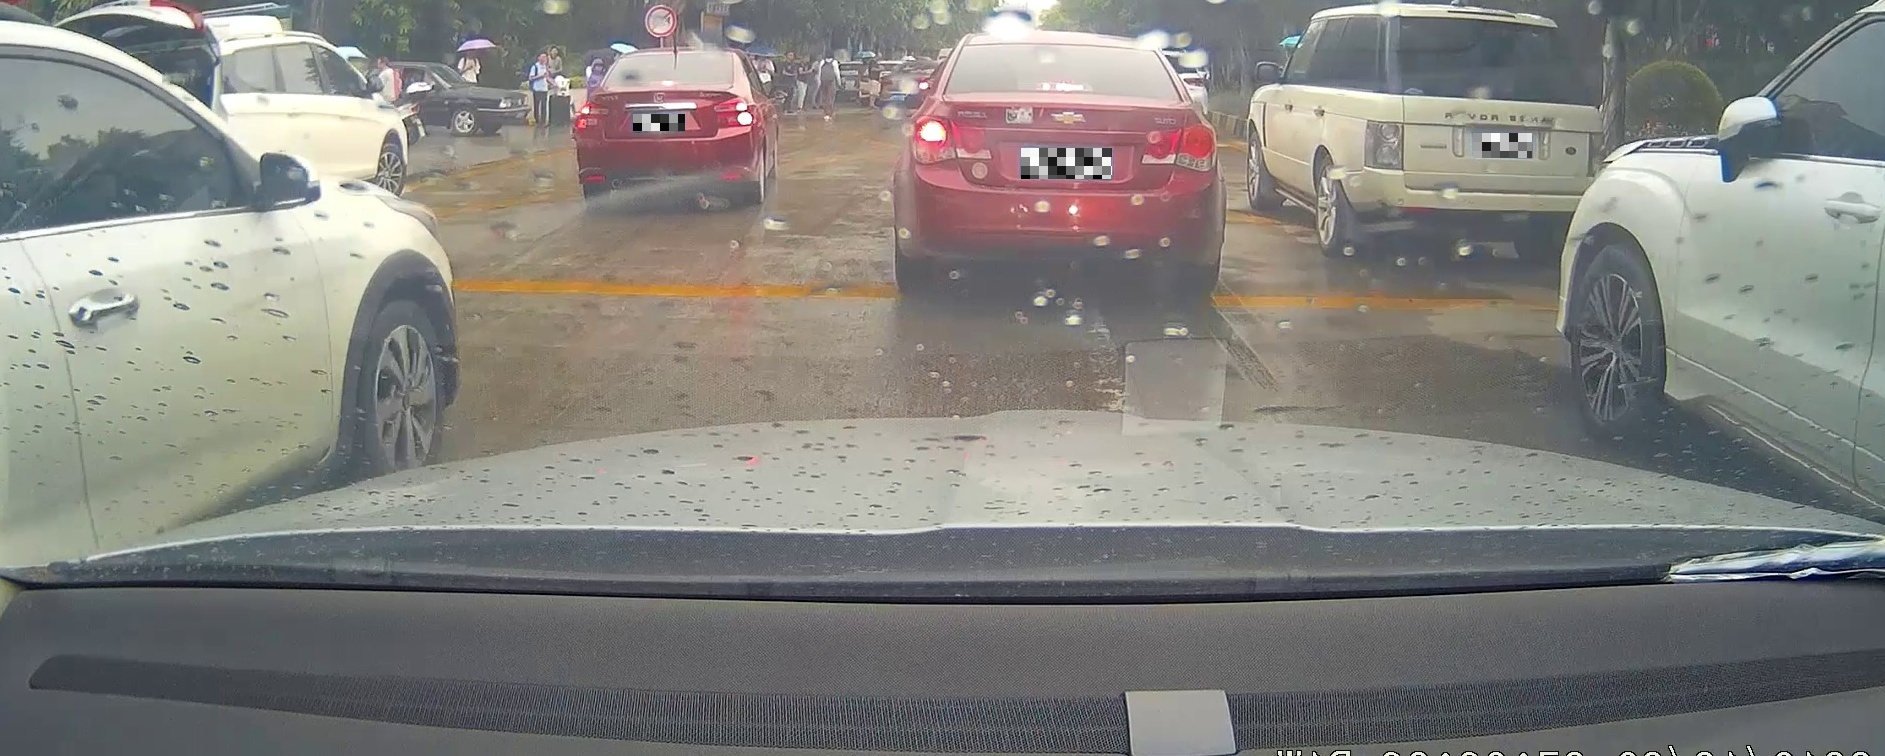L_light: (908, 115, 992, 165), (1364, 120, 1403, 169), (576, 101, 608, 130)
R_light: (1142, 123, 1218, 172), (714, 97, 753, 127), (1586, 131, 1602, 178)
T_light: (1447, 10, 1515, 18), (1037, 83, 1090, 91), (656, 81, 678, 87)
day-brake: (893, 35, 1225, 292), (575, 49, 757, 206)
day-no: (1358, 6, 1602, 261)
plate_1: (634, 114, 685, 131)
plate_2: (1021, 148, 1112, 179)
plate_3: (1473, 133, 1532, 157)
